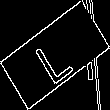L_NW: (31, 25, 79, 85)
